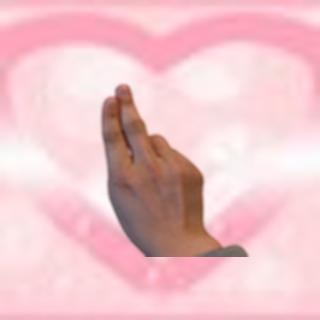DHAVE: (88, 78, 208, 247)
